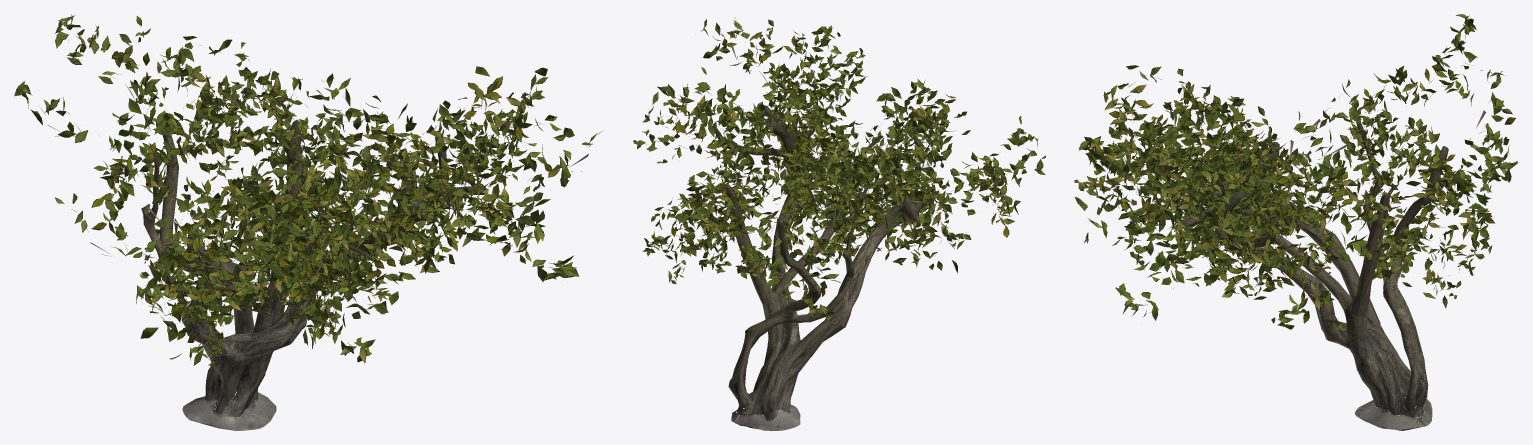
Rendered from river-tree.glb.
3 views of the same model, side by side, from view 1: azimuth 30°, elevation 25°; view 2: azimuth 150°, elevation 25°; view 3: azimuth 270°, elevation 25° (orthographic). The views are drawn at different scales.
Parts seen in each view (by area): view 1: island_tree_02_LOD0.002, island_tree_02_LOD0.001, island_tree_02_LOD0; view 2: island_tree_02_LOD0.002, island_tree_02_LOD0.001, island_tree_02_LOD0; view 3: island_tree_02_LOD0.002, island_tree_02_LOD0.001, island_tree_02_LOD0.
Part boxes in pixels (box(x1,y1,x2,y2)): island_tree_02_LOD0.002: box(14, 14, 597, 365); island_tree_02_LOD0.001: box(141, 119, 485, 430); island_tree_02_LOD0: box(29, 36, 601, 355); island_tree_02_LOD0.002: box(633, 19, 1045, 319); island_tree_02_LOD0.001: box(714, 105, 926, 430); island_tree_02_LOD0: box(646, 18, 1033, 309); island_tree_02_LOD0.002: box(1074, 14, 1518, 331); island_tree_02_LOD0.001: box(1147, 109, 1448, 430); island_tree_02_LOD0: box(1086, 35, 1504, 316).
Bounding box in the file's own units: 3.92 × 3.44 × 3.99.
Materials: 3 (3 with a texture image).
